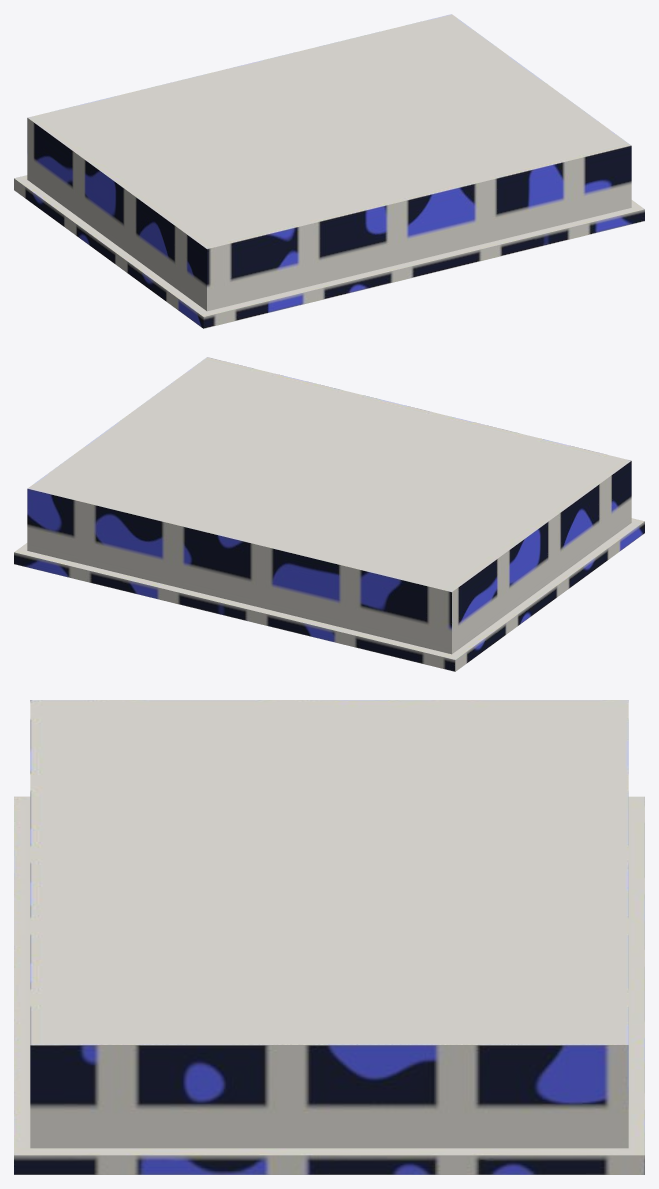
The model's file is piso.glb.
The picture shows the model from 3 angles, top to bottom: view 1: azimuth 30°, elevation 25°; view 2: azimuth 150°, elevation 25°; view 3: azimuth 270°, elevation 25°; orthographic projection. The views are drawn at different scales.
Parts seen in each view (by area): view 1: piso; view 2: piso; view 3: piso.
Part boxes in pixels (box(x1,y1,x2,y2)): piso: box(14, 14, 644, 328); piso: box(14, 357, 644, 671); piso: box(14, 700, 644, 1174).
Size of the model in its own units: 0.312 by 0.05 by 0.232.
1 material, 1 textured.
